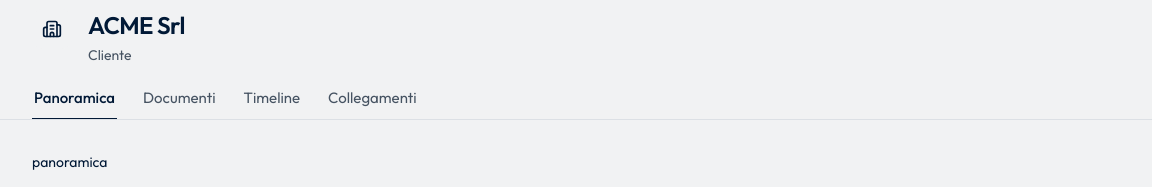
Test: EntityDetailLayout › shows a Documenti tab with its own contents when documents is given
Click the tab "Documenti": (179, 103) [141,87,218,120]
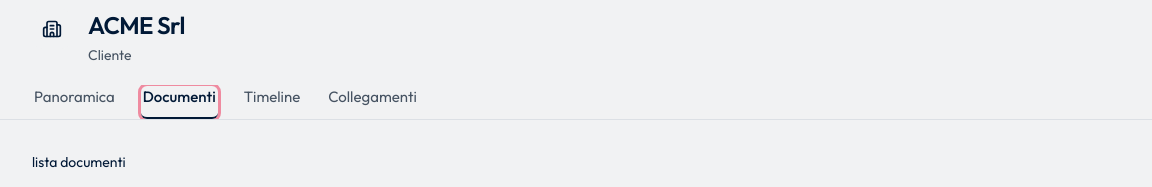
Expected: the text "lista documenti" is shown, [32,152,126,170]
